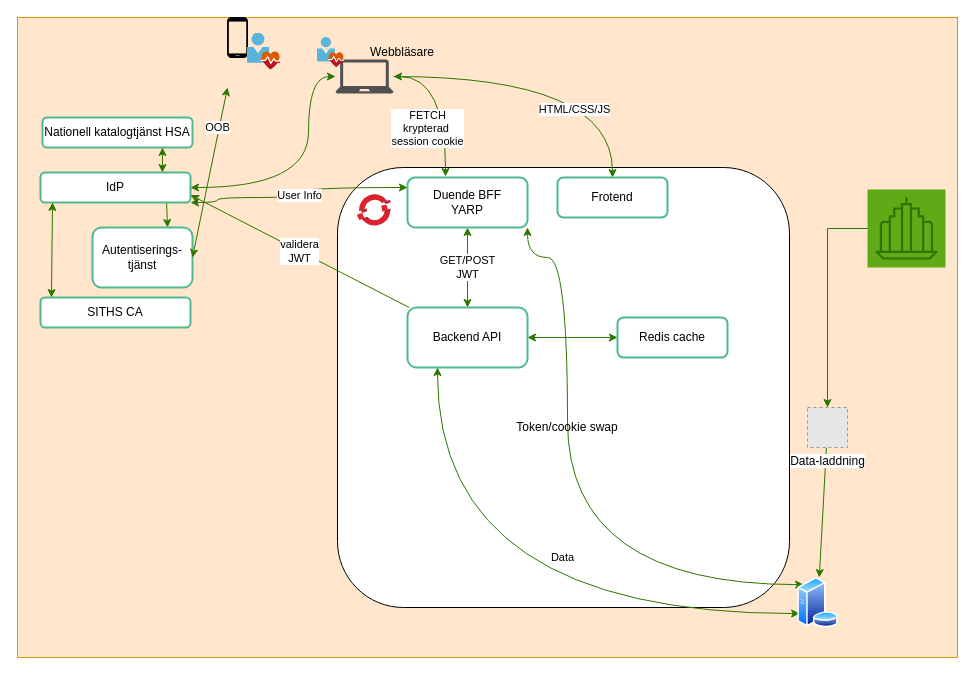
Image size: 975x675. Some labels were removed from this diagram. Grey dashed boxes stand in for pictures. Here are the shapes that lost their labels. From the top down, the box of each, then its label:
(247, 33, 281, 70): Mobil klient
(357, 193, 391, 227): OpenShift
(866, 188, 946, 268): Ekonomisystem
(797, 577, 838, 627): SQL Server
